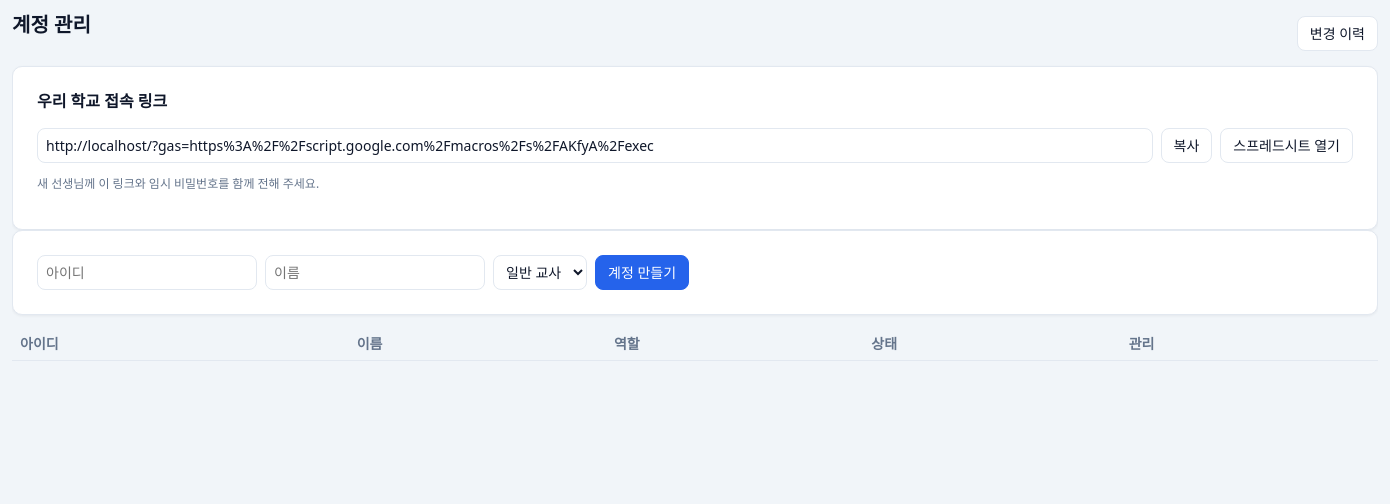
Test: school link and spreadsheet › when the clipboard is refused it asks to copy by hand
The width and height of the screenshot is (1390, 504).
Click the button "복사" at (1186, 145), box [1160, 128, 1212, 163]
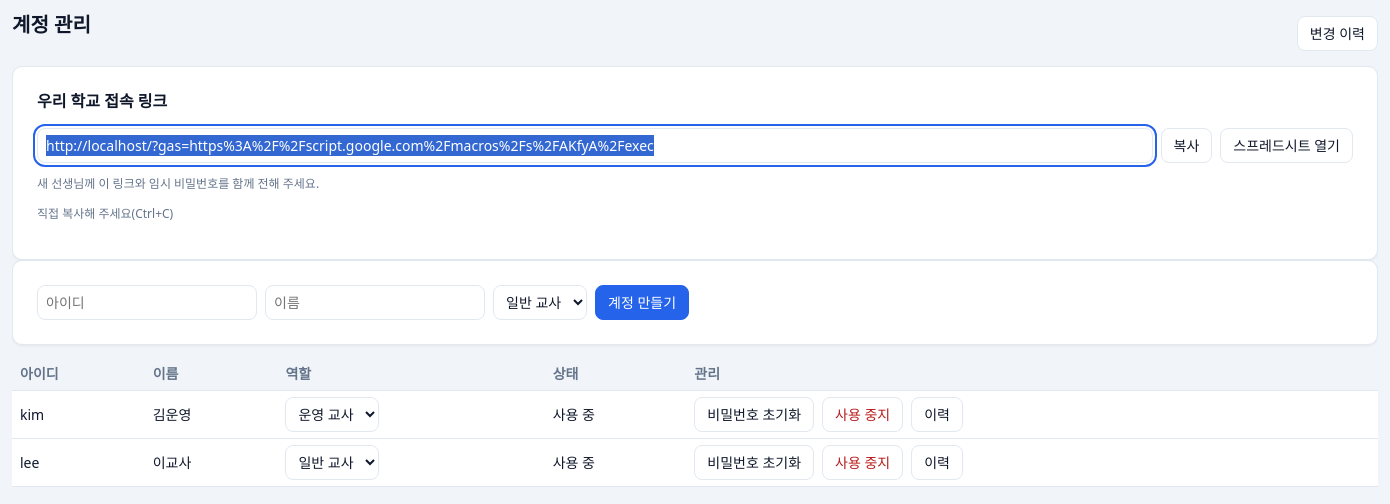
Result: the text "직접 복사해 주세요(Ctrl+C)" is shown at [37, 205, 173, 222]
